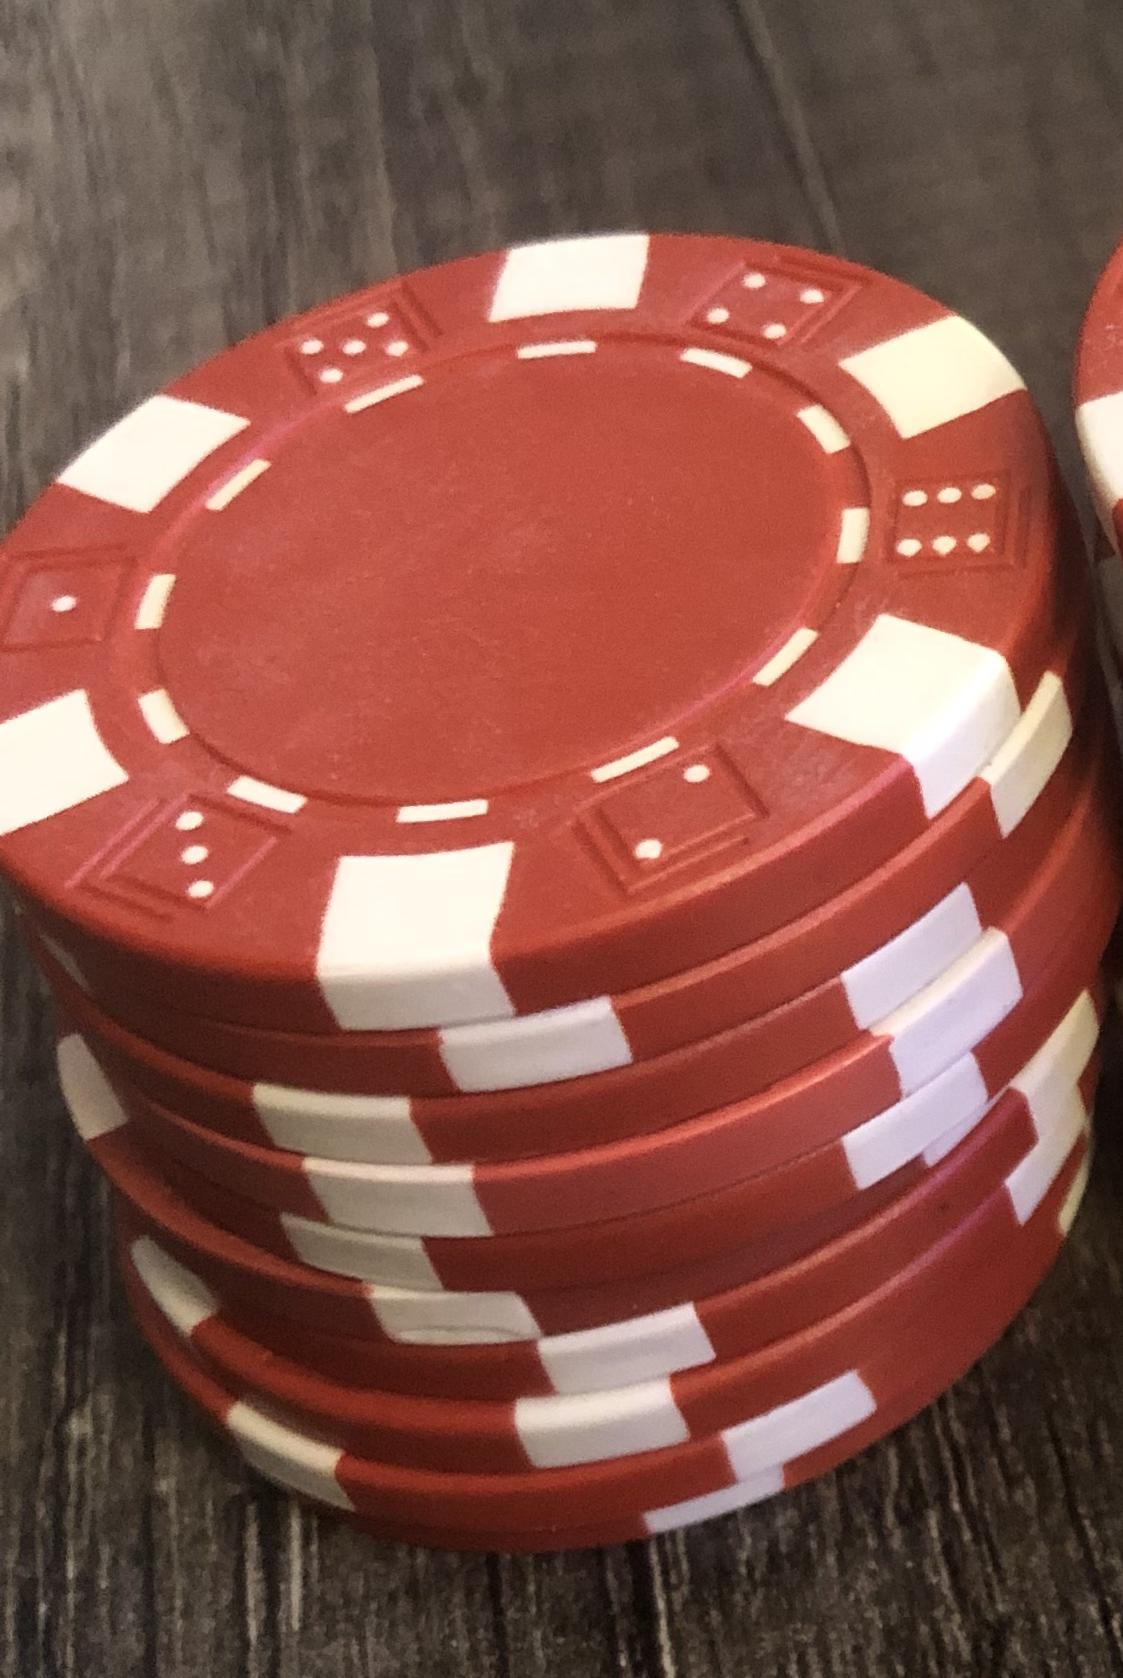Chip: (1, 1, 1123, 1678)
